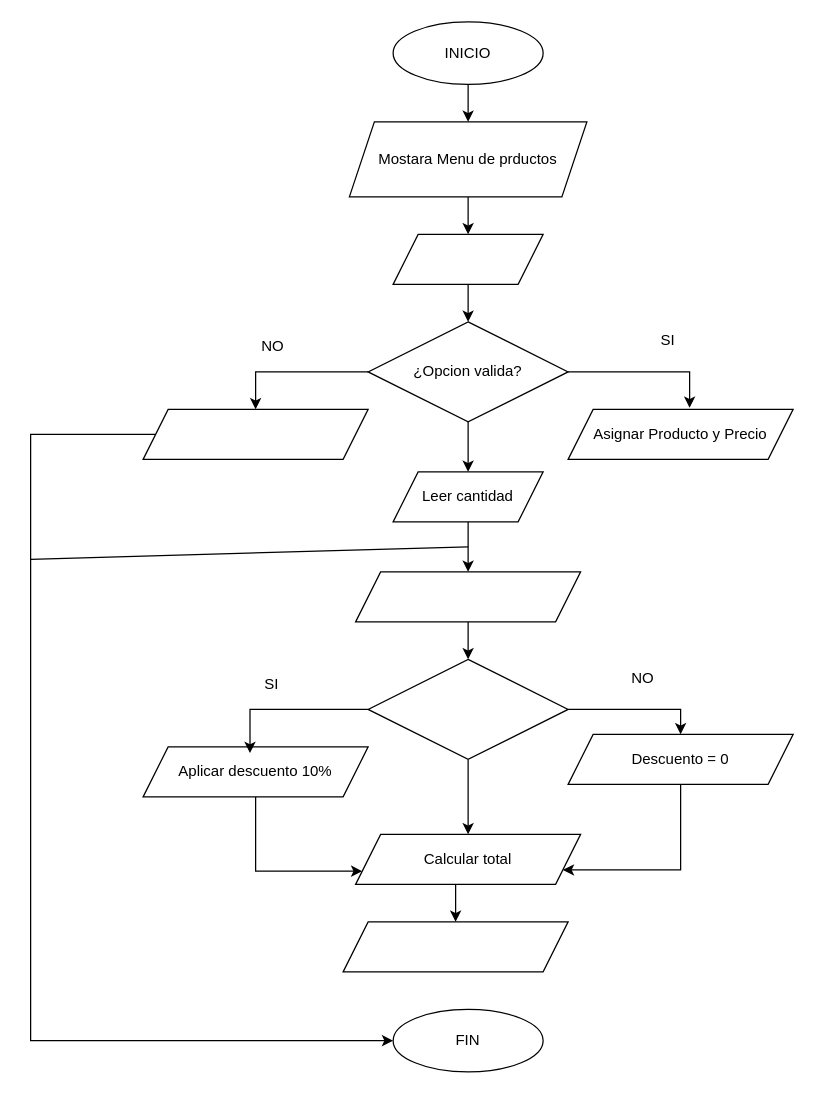
This 815x1094 diagram has some shape labels left out. Each missing label, with the box of its shape:
Calcular subtotal: (354, 571, 581, 622)
Leer opcion: (392, 233, 543, 284)
Mostrar "Opcion invalida": (142, 408, 368, 459)
Mostrar Resumen de la Compra: (342, 921, 568, 972)
¿Subtotal ≥ 10?: (367, 658, 568, 759)
